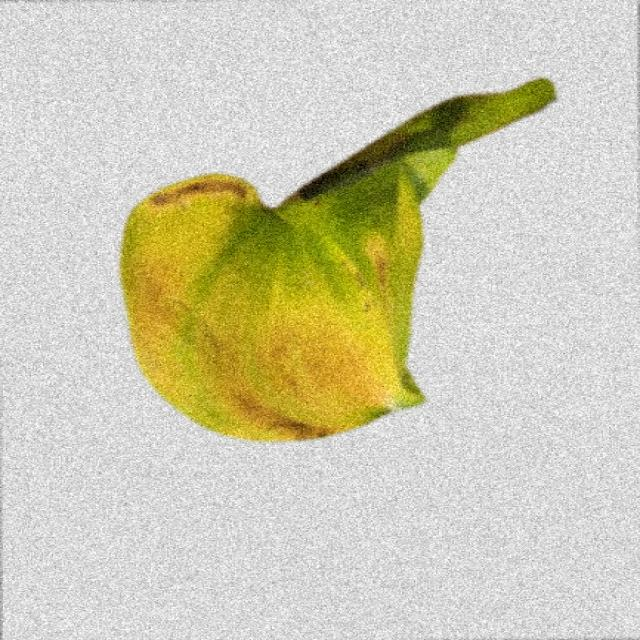daun berpenyakit kuning: (122, 79, 555, 441)
